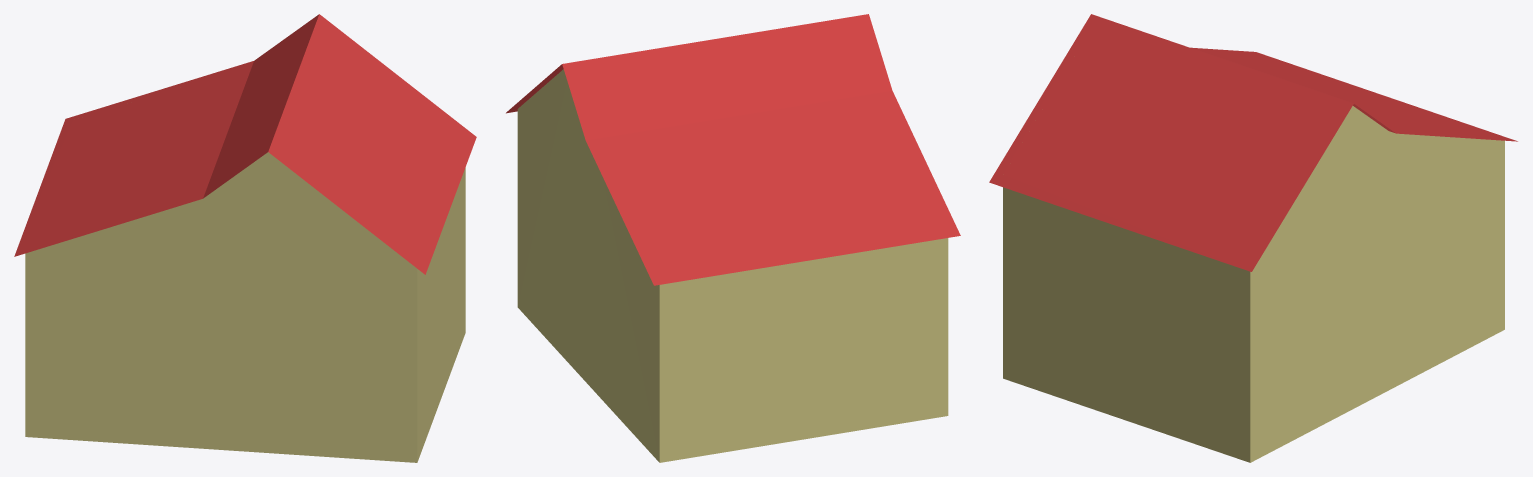
3 renders of one model, left to right at view 1: azimuth 30°, elevation 25°; view 2: azimuth 150°, elevation 25°; view 3: azimuth 270°, elevation 25°, orthographic. The views are drawn at different scales.
Size of the model in its own units: 13.57 by 13.24 by 8.6.
